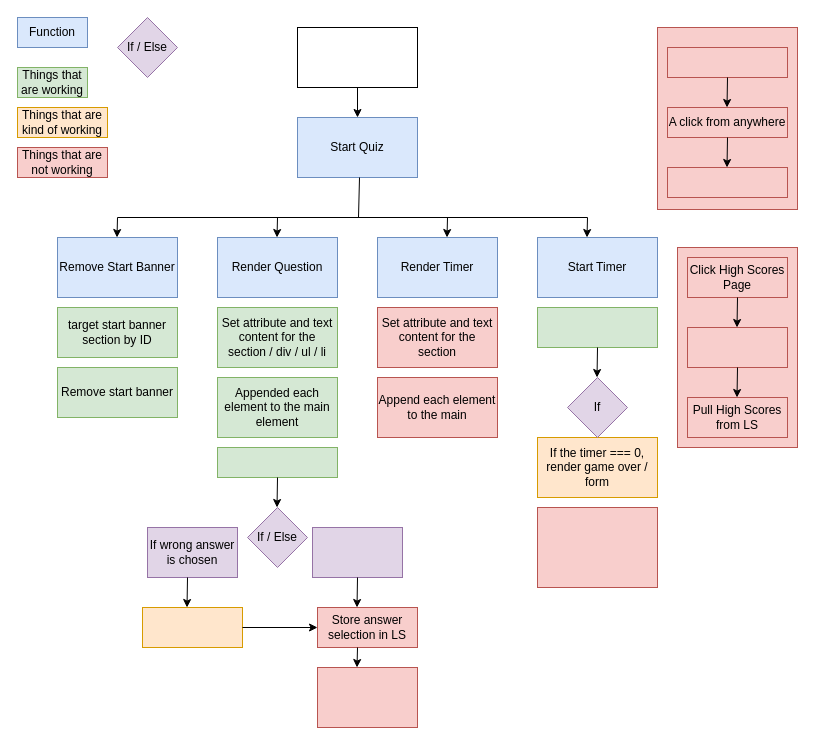
The diagram is 815 pixels wide and 745 high, and some of its shapes have lost their labels. The shapes that lost their labels are listed below. From the top down, each one's centre as x and y in pixels, then its label:
(x=357, y=57): Click Start Button
(x=727, y=62): Click Home Page
(x=727, y=182): Start Banner shows
(x=597, y=327): Timer decrements by 1
(x=737, y=347): Pull name from form
(x=277, y=462): Answer choices show
(x=357, y=552): If right answer is chosen
(x=597, y=547): Timer sometimes shows -minus numbers FIX (If timer == -1) render form
(x=192, y=627): Decrement timer by 10 seconds
(x=367, y=697): Render next question and answers
